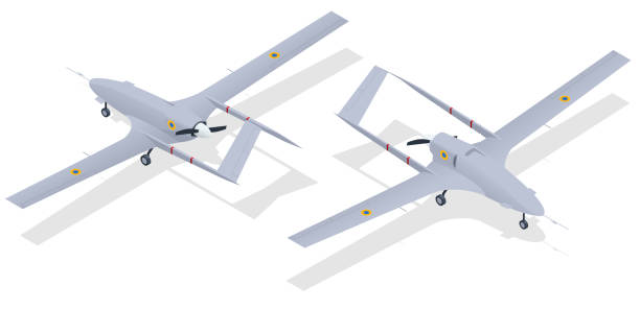military drone: (5, 10, 349, 208), (288, 50, 630, 248)
